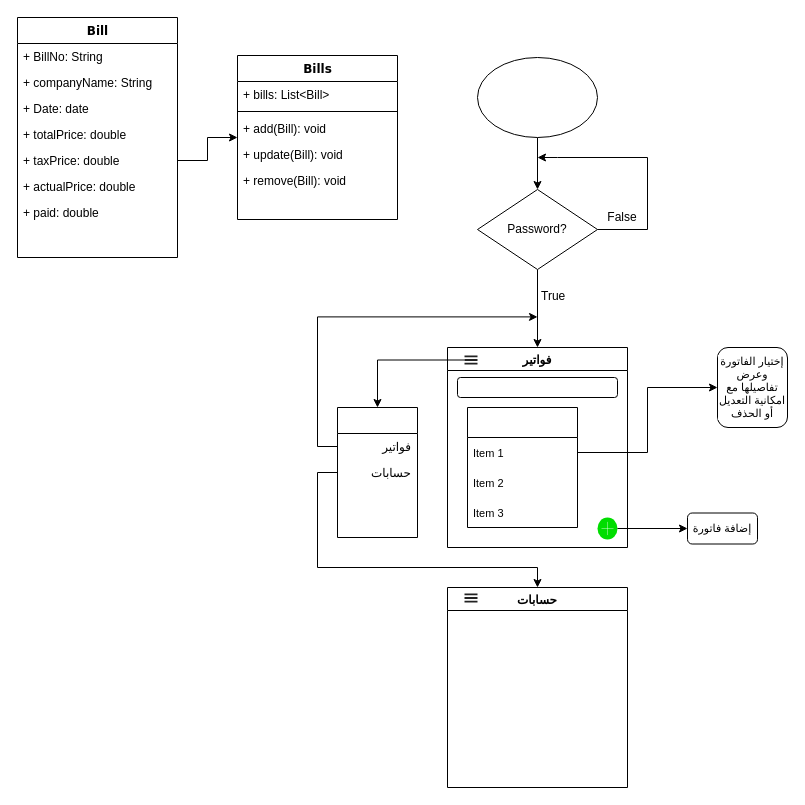
Some shapes in this 805 by 805 pixel diagram are drawn without their labels. The shapes that lost their labels are listed below. From the top down, each one's box as (x1, y1, x2, y2) in pixels, then its label:
(476, 56, 598, 138): Start
(456, 376, 618, 398): بحث
(336, 406, 418, 538): Drawer
(466, 406, 578, 528): قائمة الفواتير
